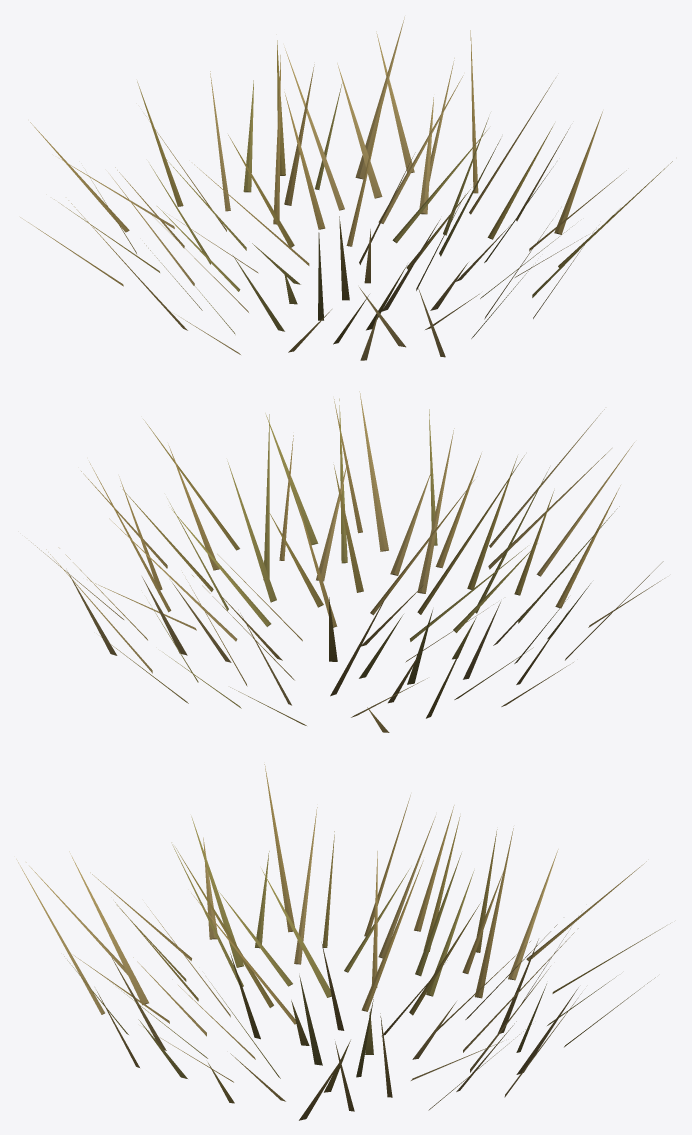
The model's file is grass-lod.glb.
The picture shows the model from 3 angles, top to bottom: view 1: azimuth 30°, elevation 25°; view 2: azimuth 150°, elevation 25°; view 3: azimuth 270°, elevation 25°; orthographic projection. The views are drawn at different scales.
Visible parts, largest first — view 1: FineGrassPatch; view 2: FineGrassPatch; view 3: FineGrassPatch.
Part boxes in pixels (bbox=[...]): FineGrassPatch: bbox=[20, 17, 672, 360]; FineGrassPatch: bbox=[31, 391, 664, 732]; FineGrassPatch: bbox=[16, 764, 670, 1120].
Bounding box in the file's own units: 1.55 × 0.3653 × 1.6.
